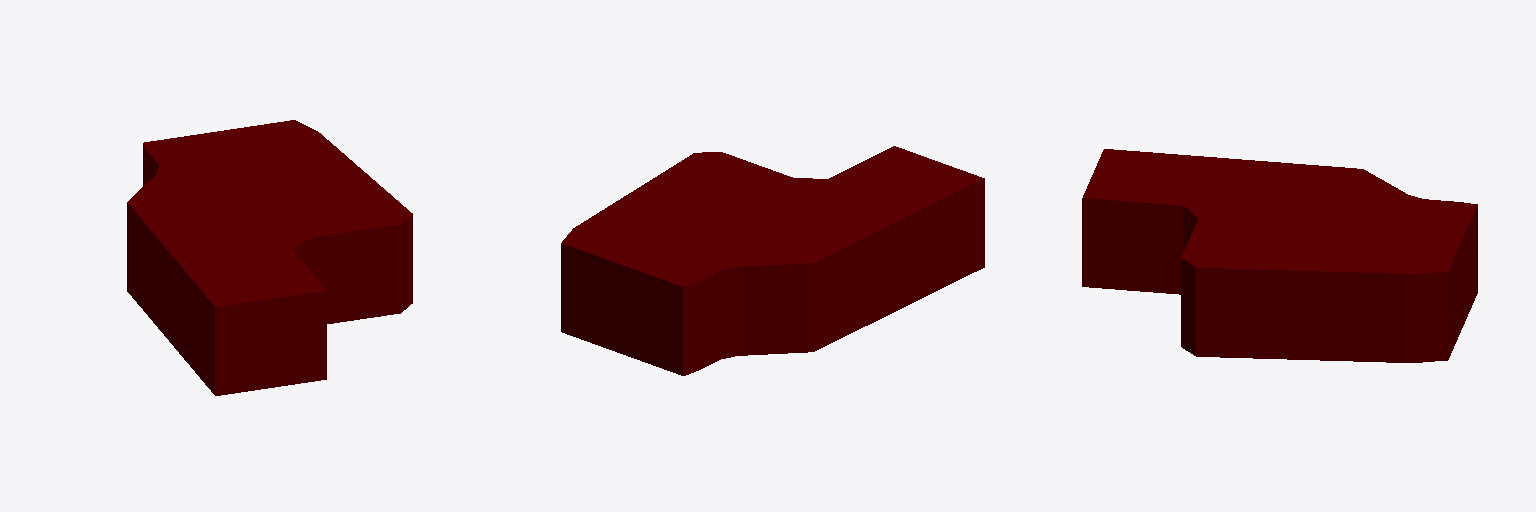
Rendered from skogenmaxh.obj.
3 views of the same model, side by side, from view 1: azimuth 30°, elevation 25°; view 2: azimuth 150°, elevation 25°; view 3: azimuth 270°, elevation 25° (orthographic).
Size of the model in its own units: 60.43 by 20 by 80.41.